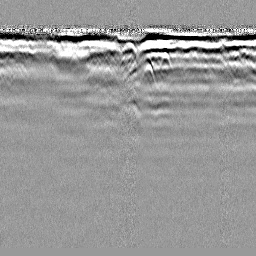cavity: (120, 40, 137, 57)
